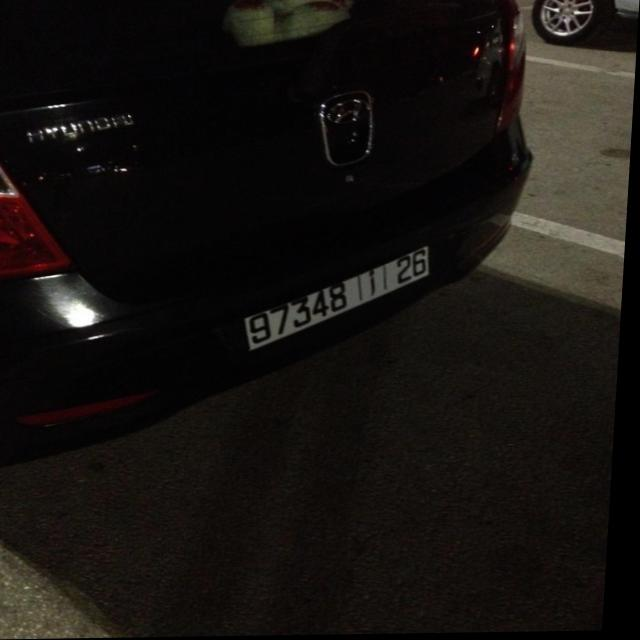License-Plate: (248, 249, 432, 350)
